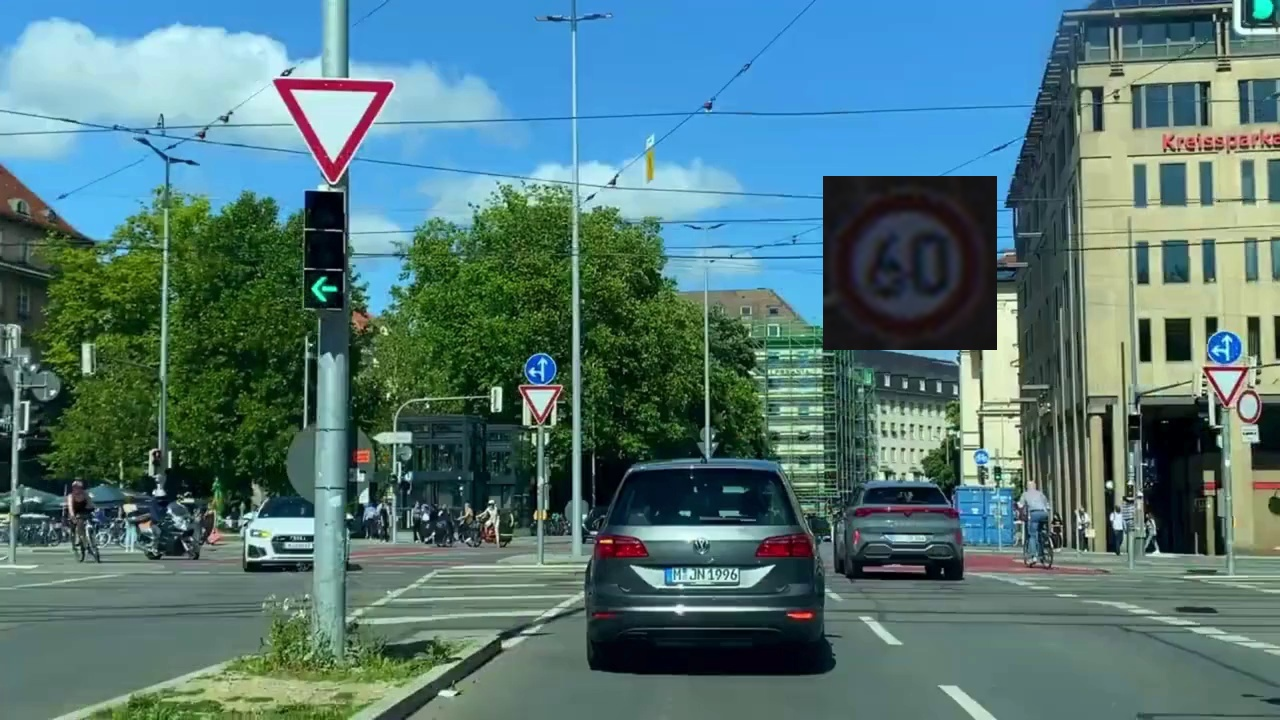Speed 60: (823, 176, 997, 350)
